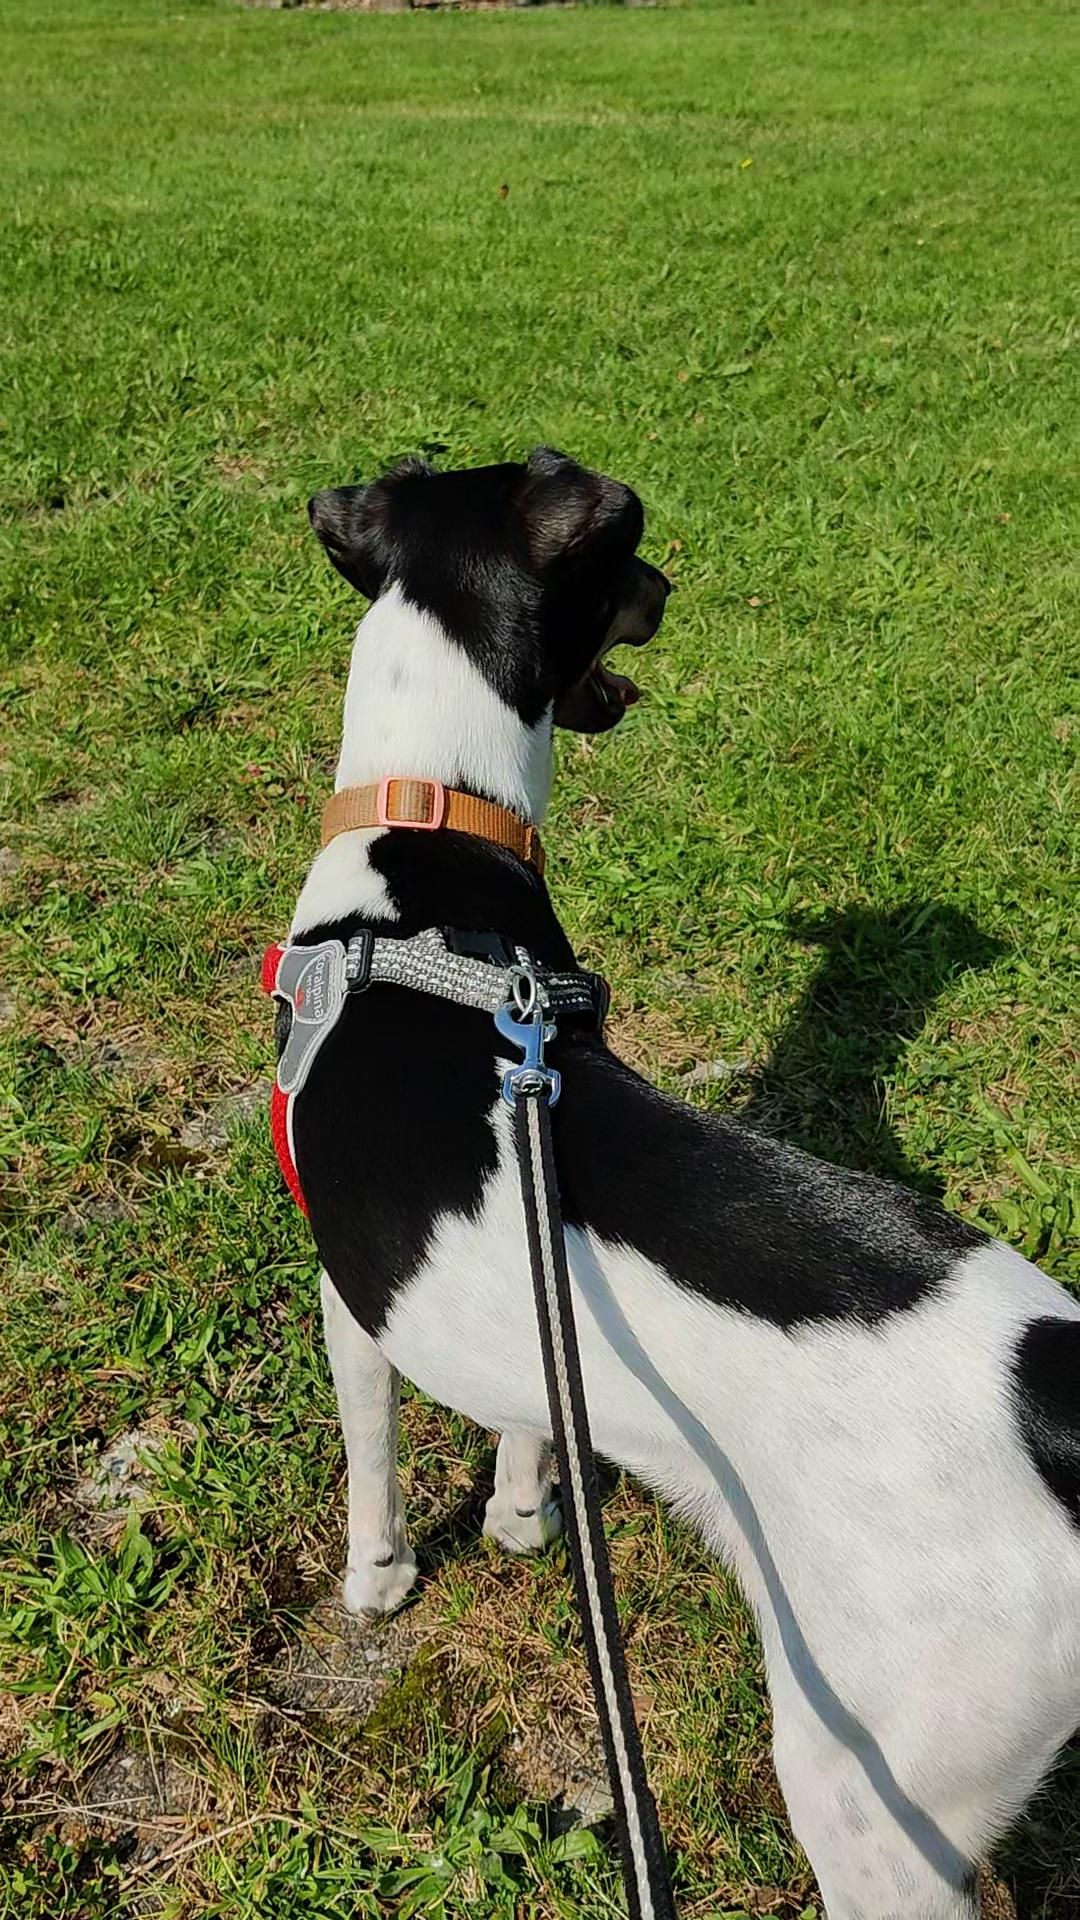Dog: (243, 398, 1079, 1919)
